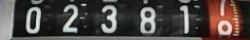digits: (214, 0, 234, 40), (62, 3, 79, 32), (139, 6, 156, 33), (100, 4, 116, 32), (24, 6, 40, 32), (179, 4, 189, 33)
